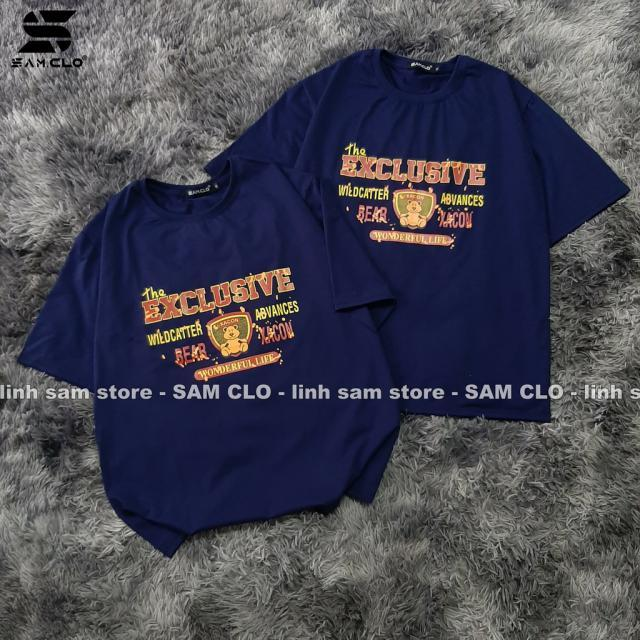Shirt: (201, 48, 632, 426), (11, 165, 404, 560)
